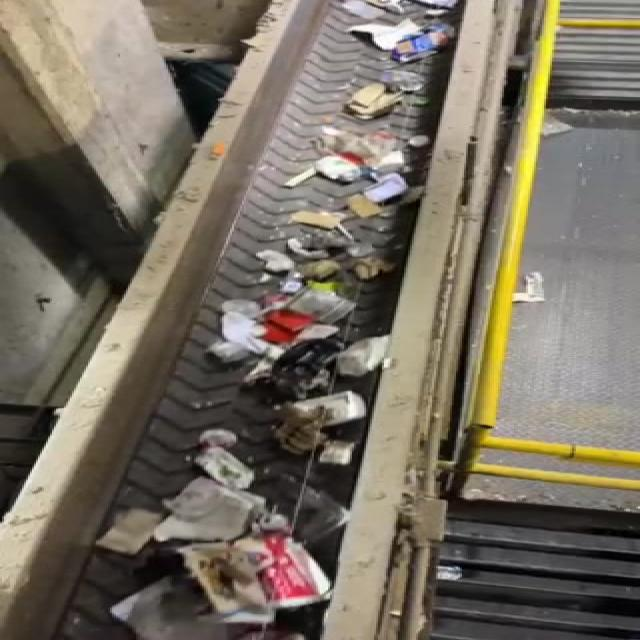ps: (180, 541, 343, 613), (280, 392, 375, 439)
